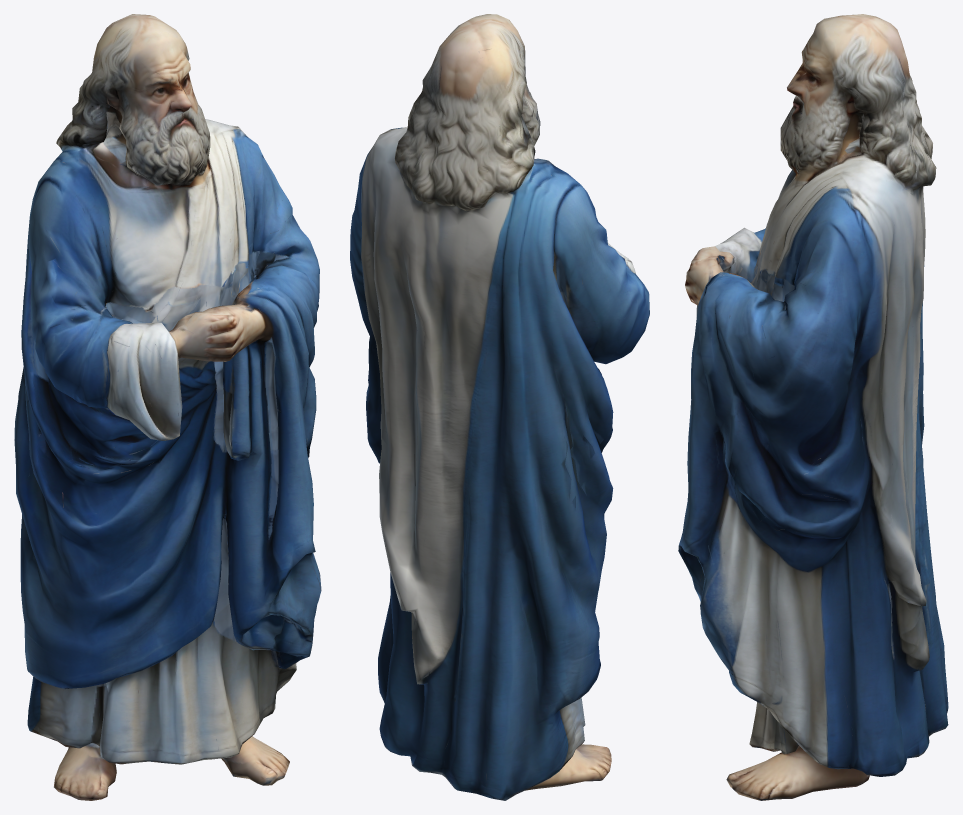
Rendered from Socrates.glb.
The picture shows the model from 3 angles, left to right: view 1: azimuth 30°, elevation 25°; view 2: azimuth 150°, elevation 25°; view 3: azimuth 270°, elevation 25°; orthographic projection.
Size of the model in its own units: 0.7947 by 2.01 by 0.6656.
Materials: 1 (1 with a texture image).
